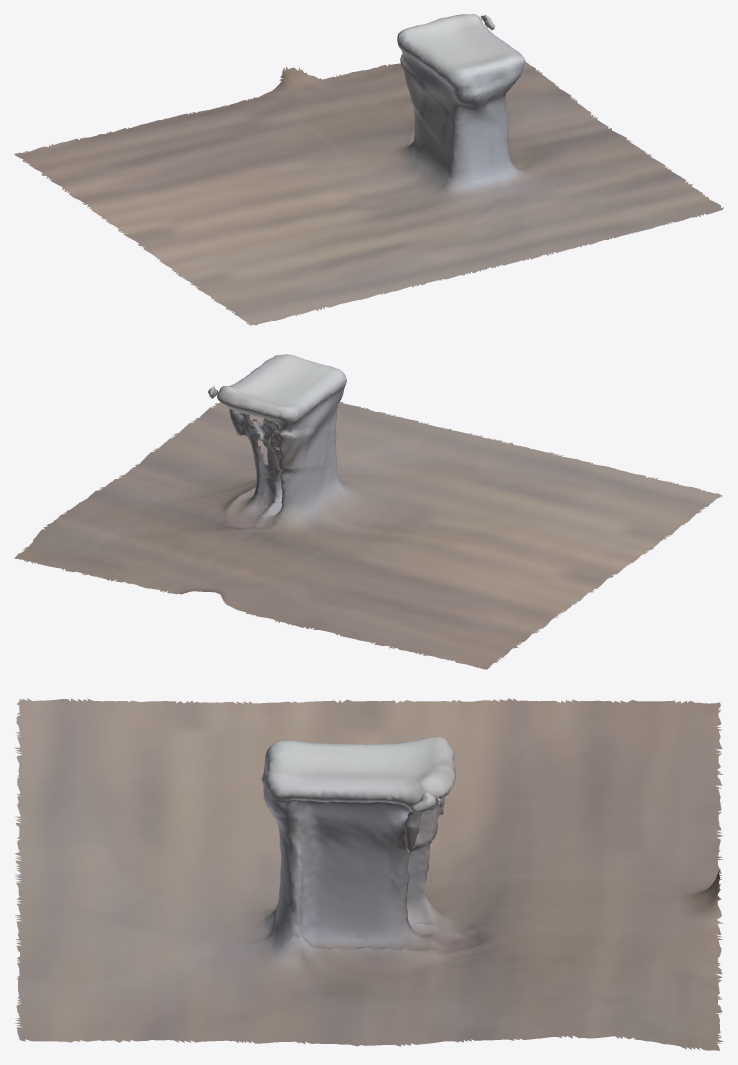
Rendered from apartment-full-102-885aa6f5902e.glb.
3 views of the same model, one above another, from view 1: azimuth 30°, elevation 25°; view 2: azimuth 150°, elevation 25°; view 3: azimuth 270°, elevation 25° (orthographic). The views are drawn at different scales.
Bounding box in the file's own units: 1.26 × 0.333 × 1.09.
